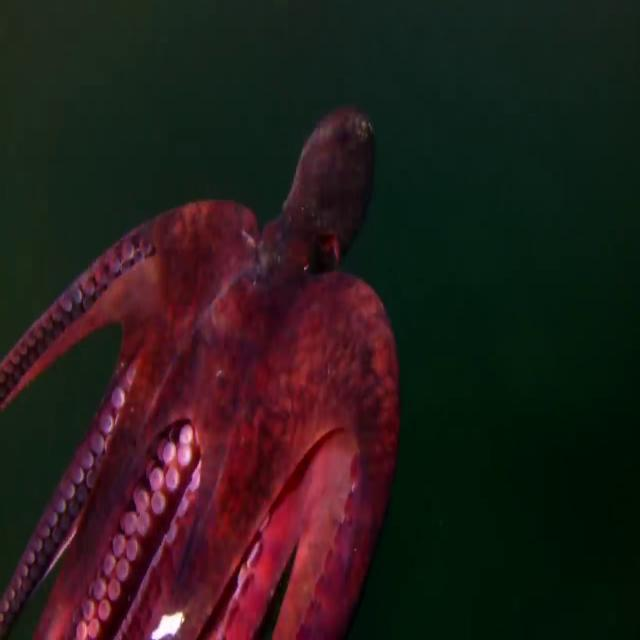octopus: (0, 95, 407, 640)
